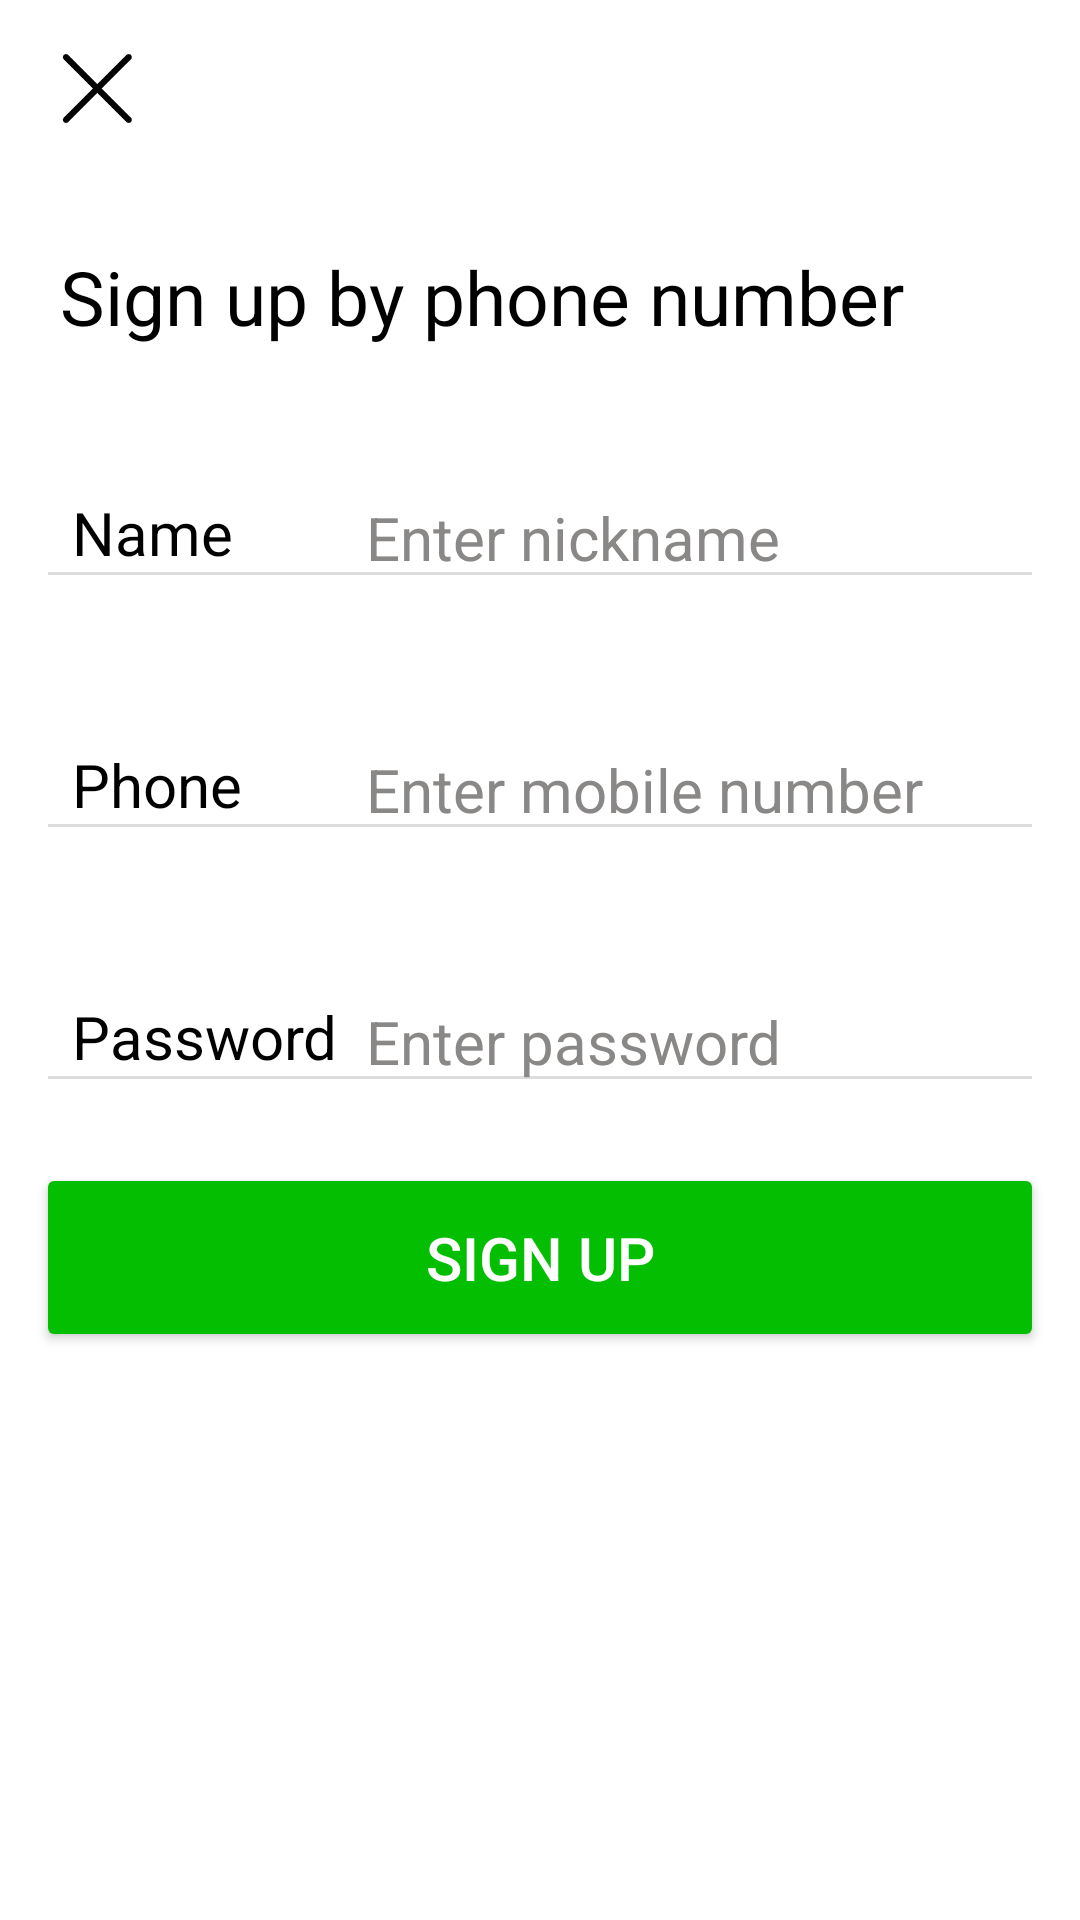

Icons on this 1080 x 1920 Android screen, each with its box as {"x1": x1, "y1": y1, "x2": x2, "y2": y2}:
cancel: {"x1": 63, "y1": 54, "x2": 132, "y2": 123}
